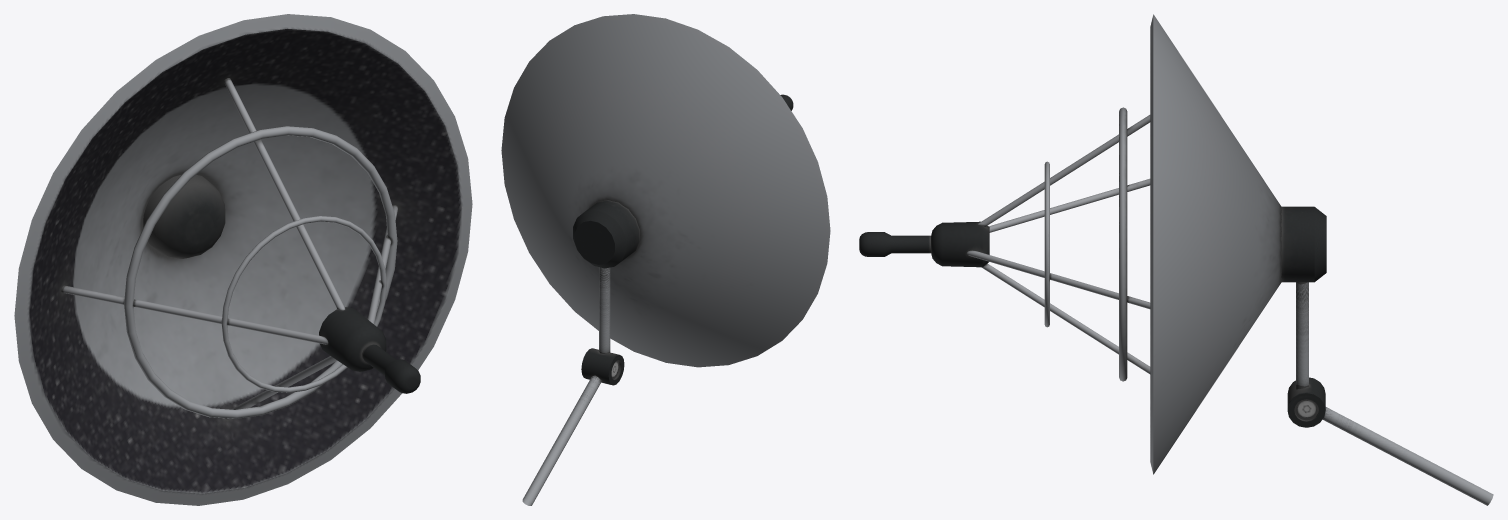
File: SM_NRT_RadioTower_Anthenes_A.fbx
The picture shows the model from 3 angles, left to right: view 1: azimuth 30°, elevation 25°; view 2: azimuth 150°, elevation 25°; view 3: azimuth 270°, elevation 25°; orthographic projection. The views are drawn at different scales.
Visible parts, largest first — view 1: SM_NRT_RadioTower_Anthenes_A_LOD0; view 2: SM_NRT_RadioTower_Anthenes_A_LOD0; view 3: SM_NRT_RadioTower_Anthenes_A_LOD0.
Part boxes in pixels (x1,y1,x2,y2): SM_NRT_RadioTower_Anthenes_A_LOD0: (14,14,472,505); SM_NRT_RadioTower_Anthenes_A_LOD0: (501,14,830,505); SM_NRT_RadioTower_Anthenes_A_LOD0: (859,14,1493,505).
Bounding box in the file's own units: 212 × 291 × 238.
1 material, 1 textured.
